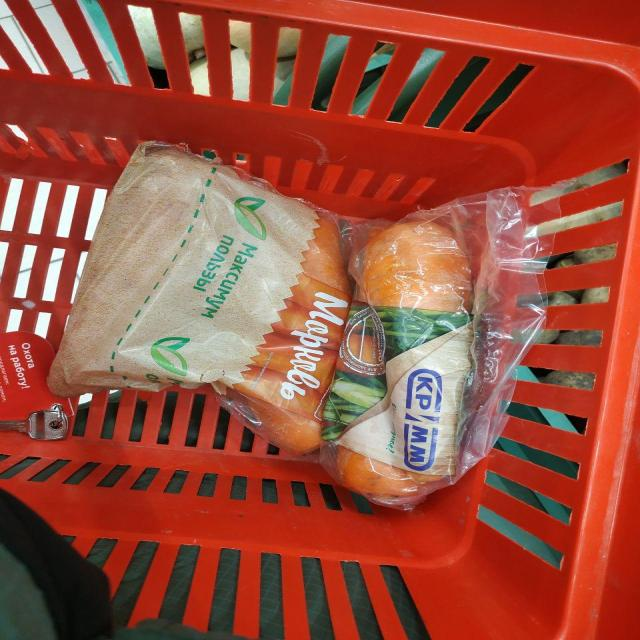carrot: (223, 239, 640, 640), (194, 223, 441, 619), (230, 120, 640, 349), (171, 132, 509, 362)
